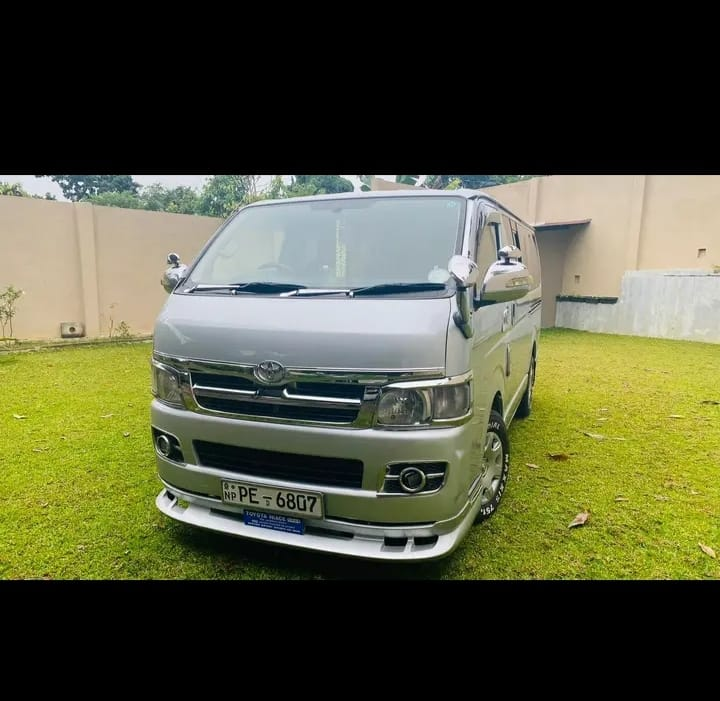number_plate: (224, 483, 324, 516)
